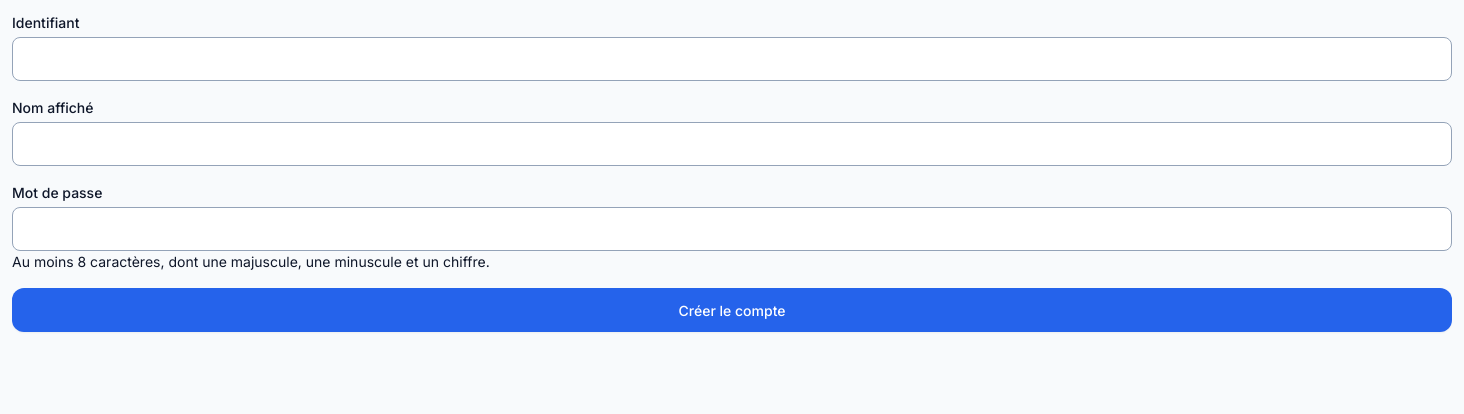
Test: SignUpForm › shows the generic message for any other failure
Type "nouvel-operateur" into the field labelled "Identifiant" at [732, 59], box x1=12 y1=37 x2=1452 y2=81
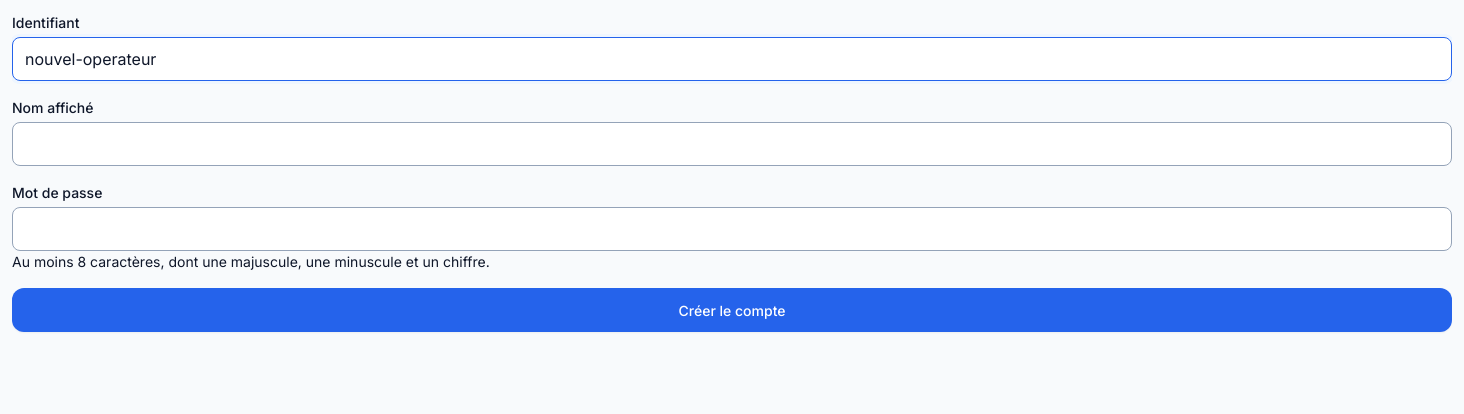
Type "Nouvel opérateur" into the field labelled "Nom affiché" at [732, 144], box x1=12 y1=122 x2=1452 y2=166
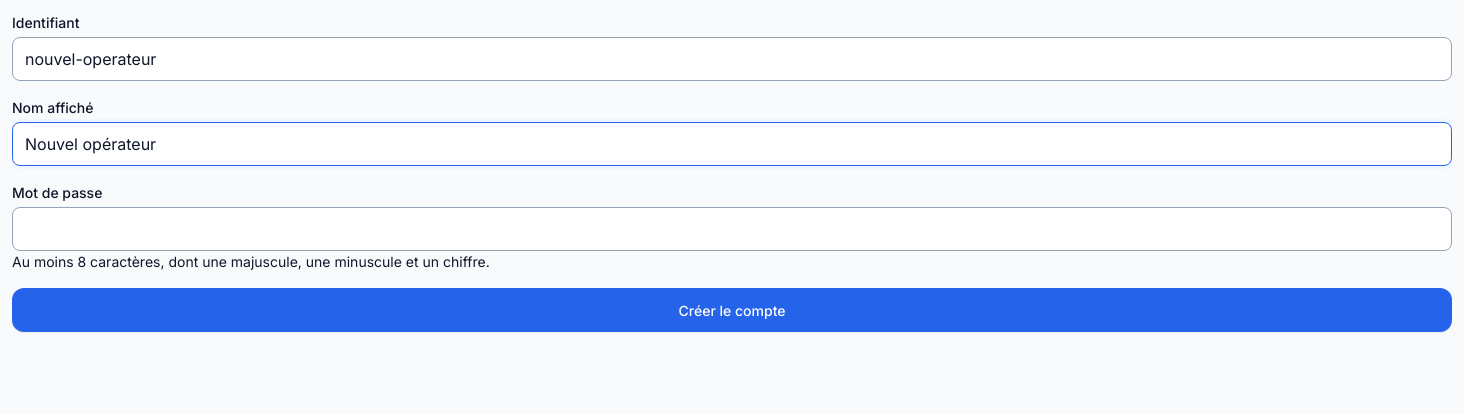
Type "Reception2026" into the password field labelled "Mot de passe" at [732, 229], box x1=12 y1=207 x2=1452 y2=251
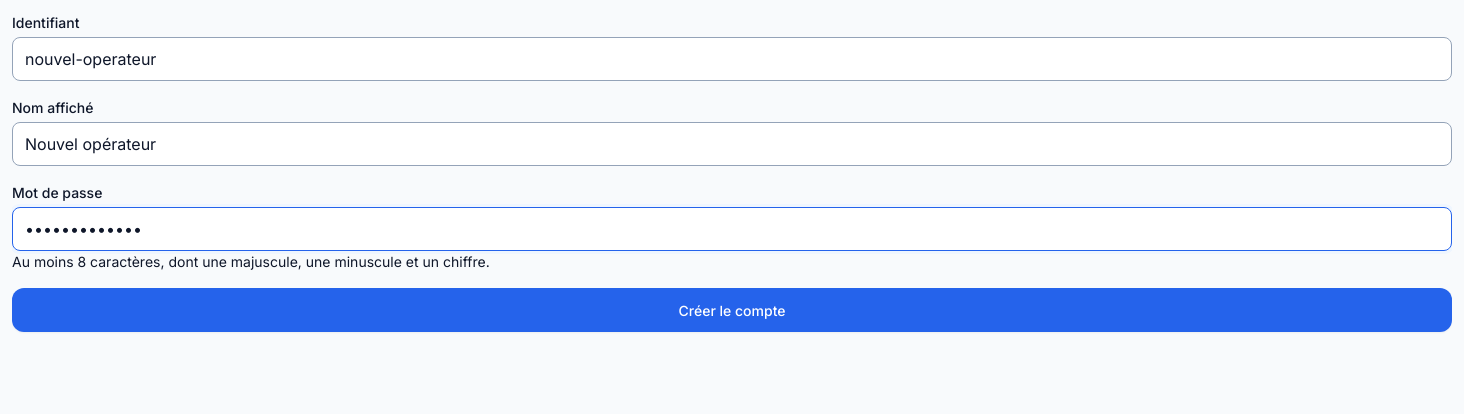
Click the button "Créer le compte" at [732, 310], box x1=12 y1=288 x2=1452 y2=332
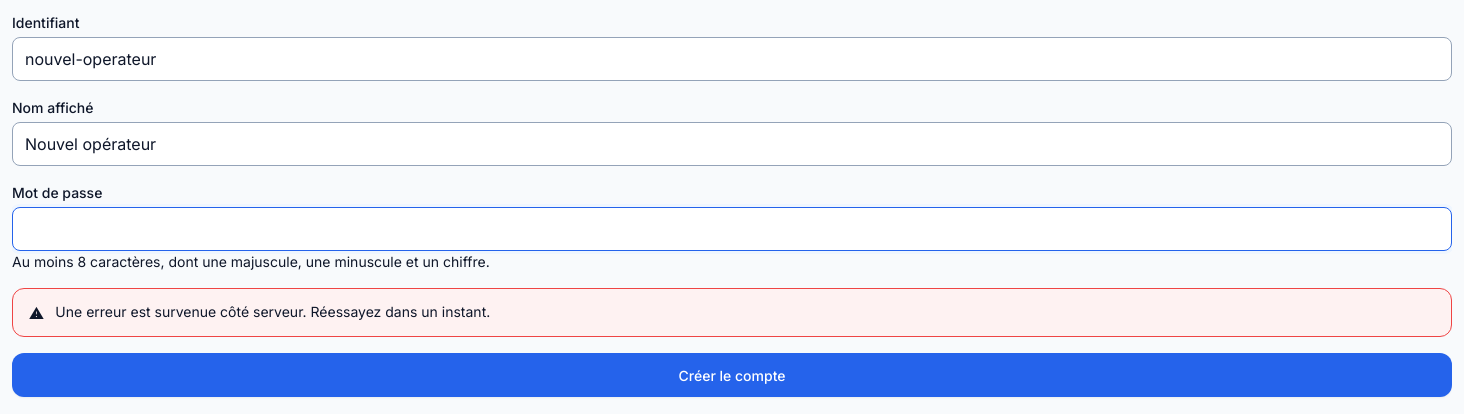
Check: the message shows "Une erreur est survenue côté serveur. Réessayez dans un instant.", box x1=55 y1=303 x2=490 y2=320
